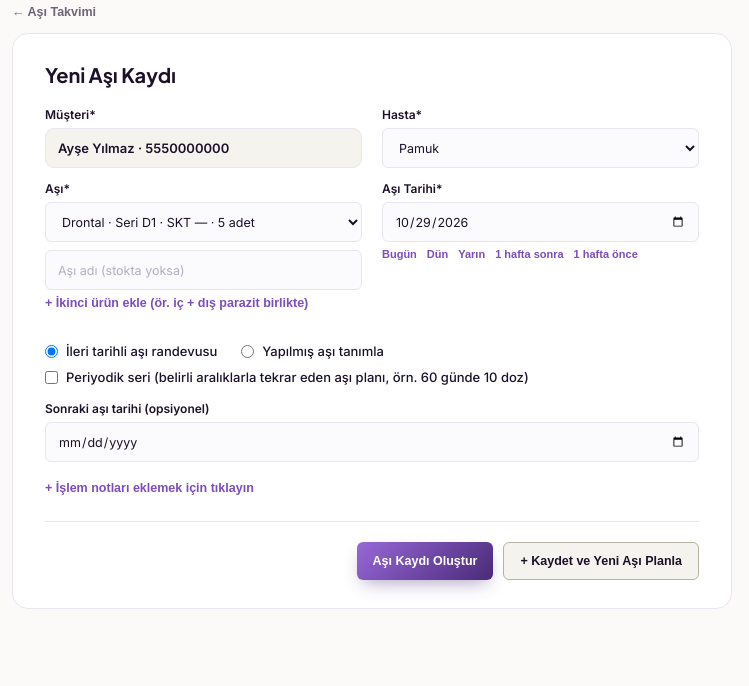
Test: NewVaccinationPage — ikinci ürün › keeps only the failed second product in the form so a retry does not duplicate the first
Select "Drontal · Seri D1 · SKT — · 5 adet" in the dropdown named "Aşı stoktan" at (204, 222), box 45,202 -> 362,242
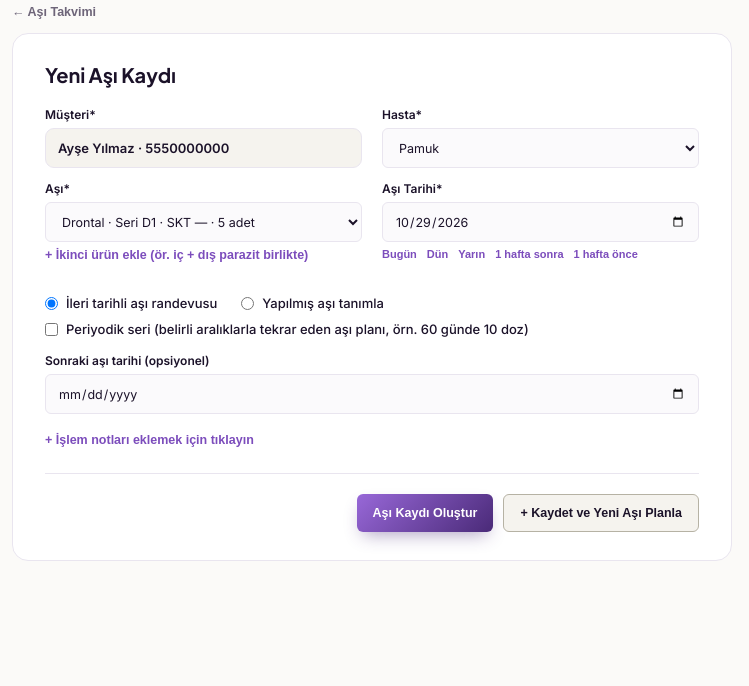
Click the button "+ İkinci ürün ekle (ör. iç + dış parazit birlikte)" at (177, 255), box 45,248 -> 308,262
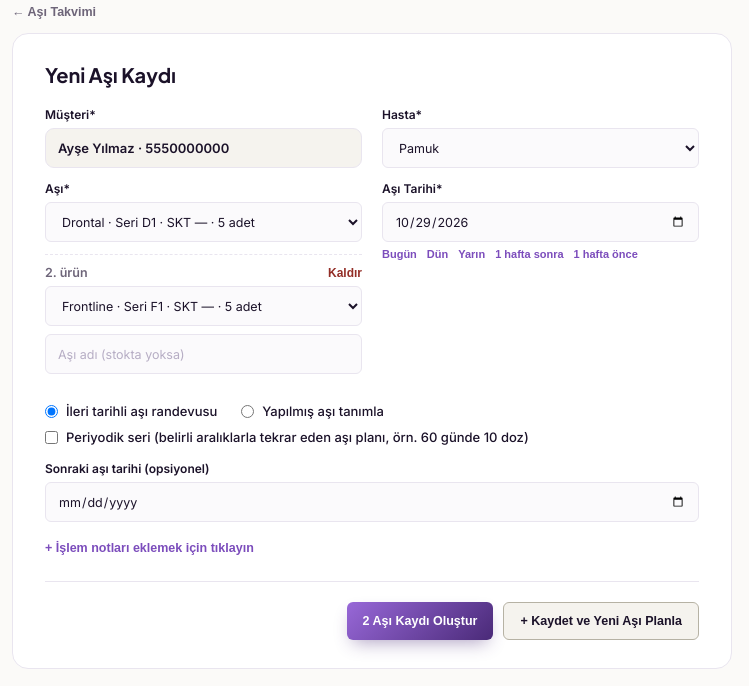
Select "Frontline · Seri F1 · SKT — · 5 adet" in the dropdown named "2. ürün stoktan" at (204, 306), box 45,286 -> 362,326
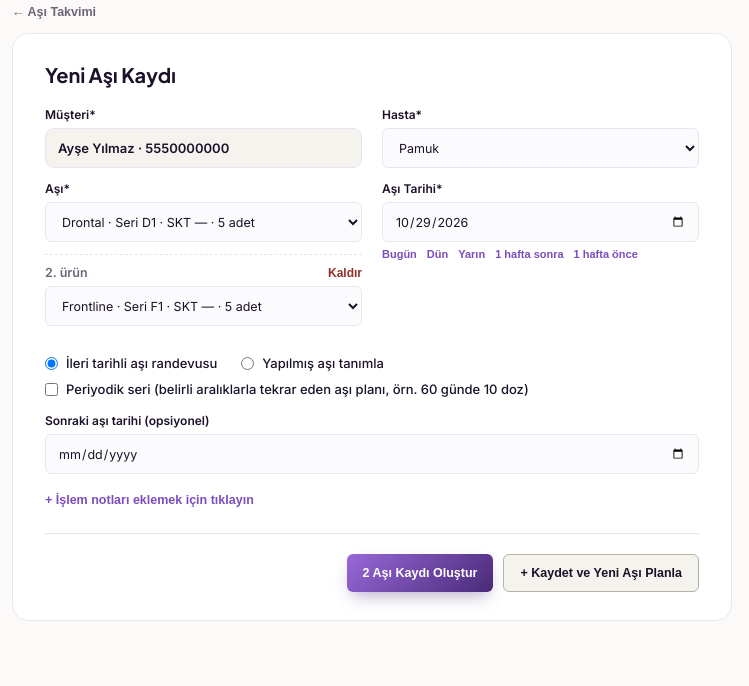
Click the button "+ Kaydet ve Yeni Aşı Planla" at (601, 573), box 504,554 -> 699,592
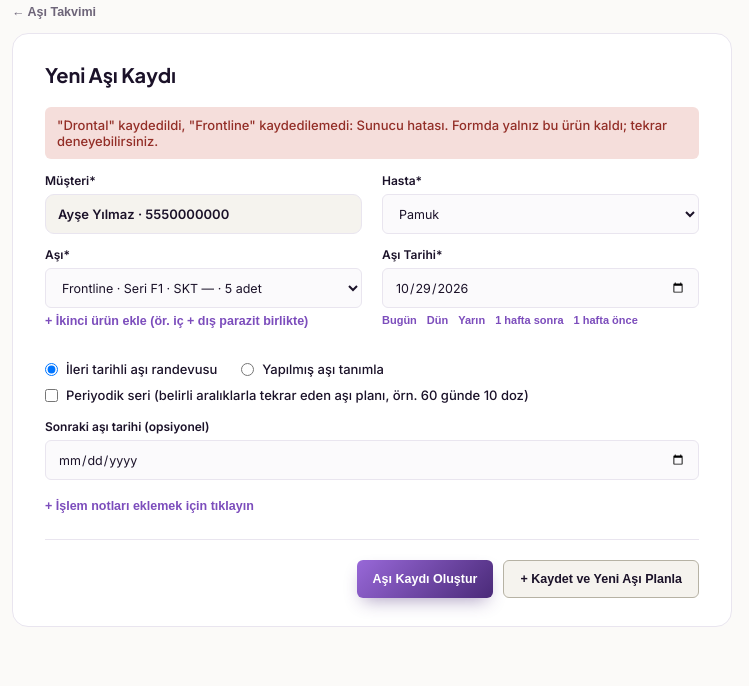
Check: the text "\"Drontal\" kaydedildi, \"Frontline\" kaydedilemedi" is shown, box 57,117 -> 667,149
